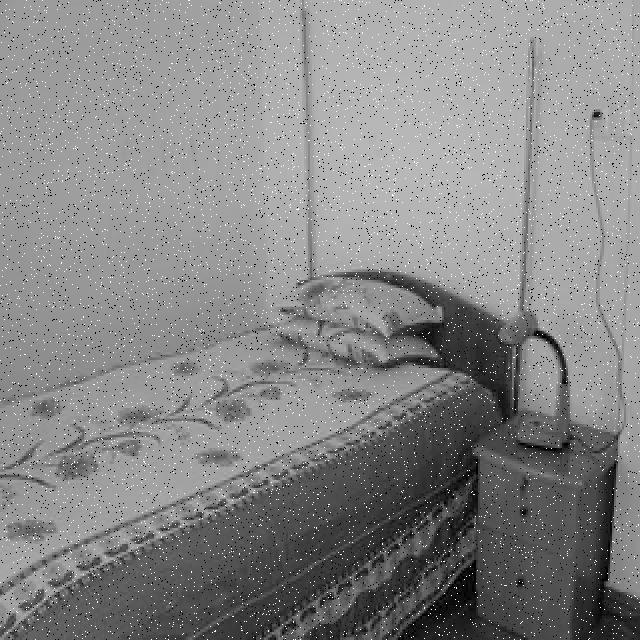bed: (0, 268, 535, 638)
